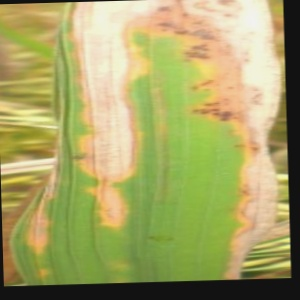Leaf_Blast: (67, 0, 284, 277)
